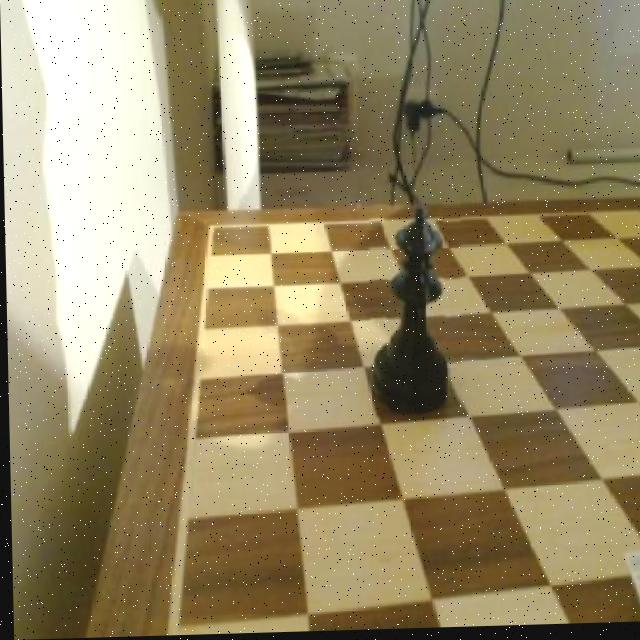black-pawn: (366, 197, 463, 422)
